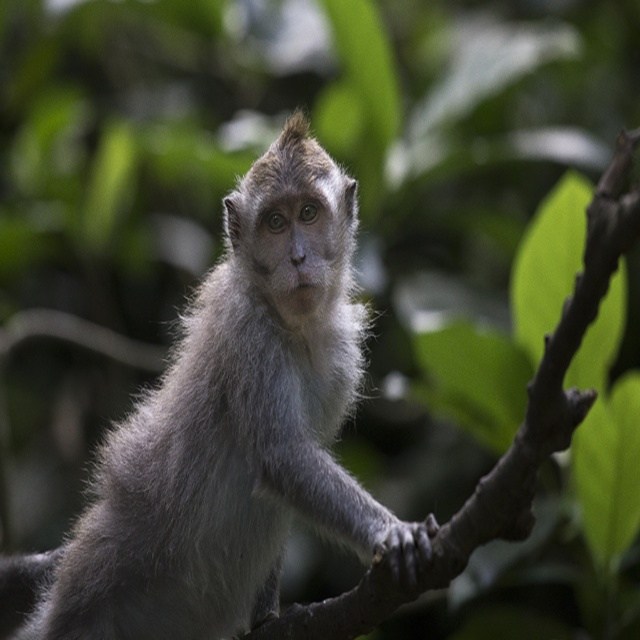Monkey: (16, 124, 457, 630)
